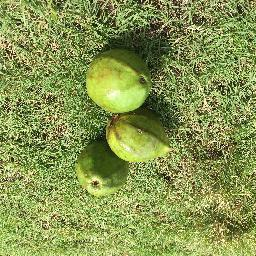Good_guava: (83, 45, 154, 120), (104, 104, 172, 167), (74, 137, 129, 204)
